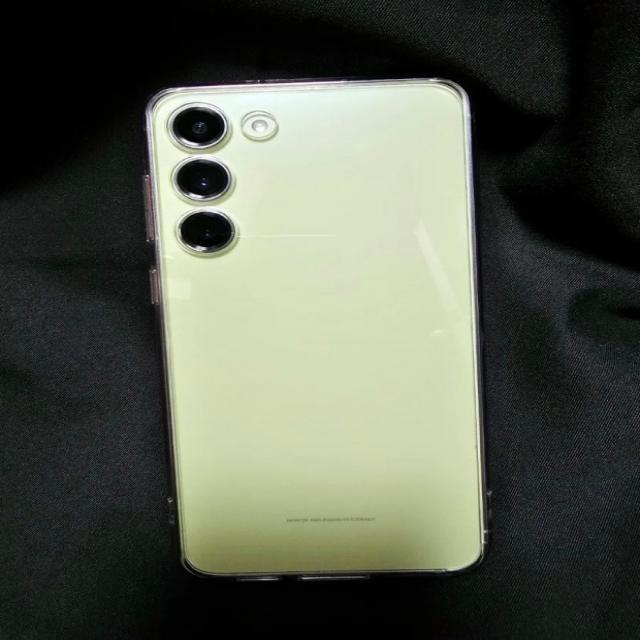phone: (136, 75, 490, 582)
